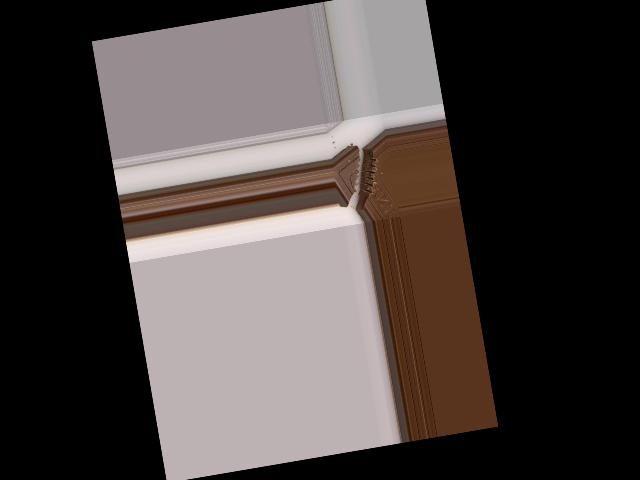chocolate: (327, 128, 398, 226)
